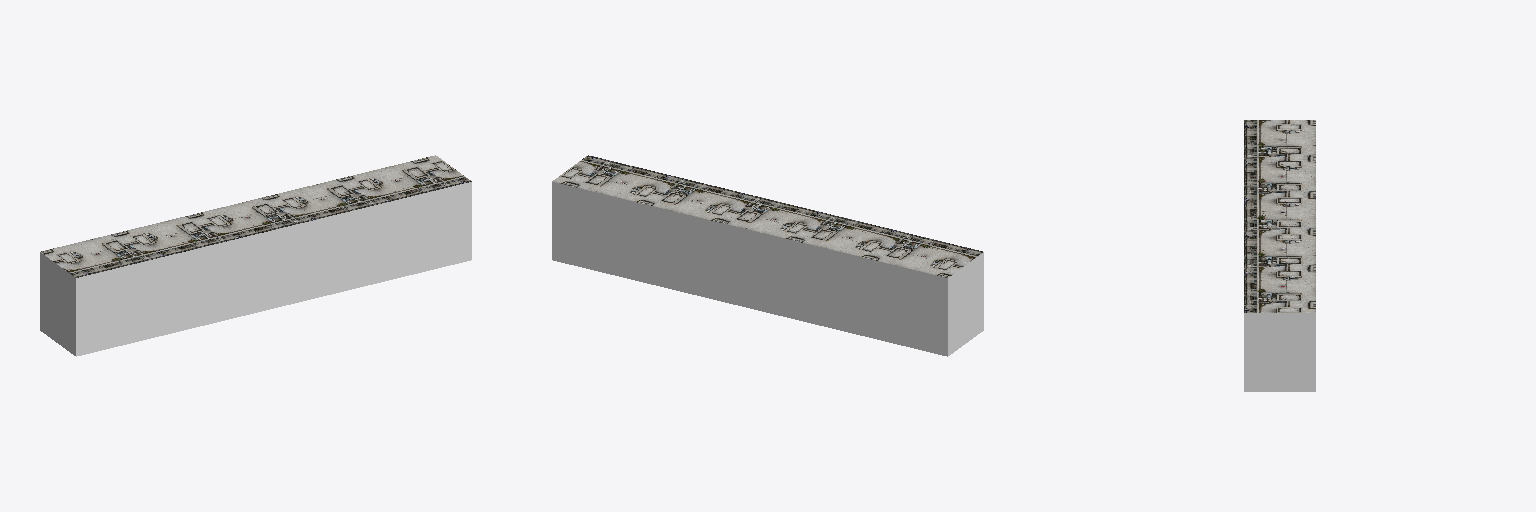
3 views of the same model, side by side, from view 1: azimuth 30°, elevation 25°; view 2: azimuth 150°, elevation 25°; view 3: azimuth 270°, elevation 25° (orthographic).
Parts seen in each view (by area): view 1: Building_63.[number redacted]_10.[number redacted]; view 2: Building_63.[number redacted]_10.[number redacted]; view 3: Building_63.[number redacted]_10.[number redacted].
Boxes of the visible parts, <box> form: Building_63.[number redacted]_10.[number redacted]: <box>40,155,471,356</box>; Building_63.[number redacted]_10.[number redacted]: <box>552,155,983,356</box>; Building_63.[number redacted]_10.[number redacted]: <box>1244,120,1315,391</box>.
Size of the model in its own units: 63.29 by 12 by 10.01.
2 materials, 1 textured.